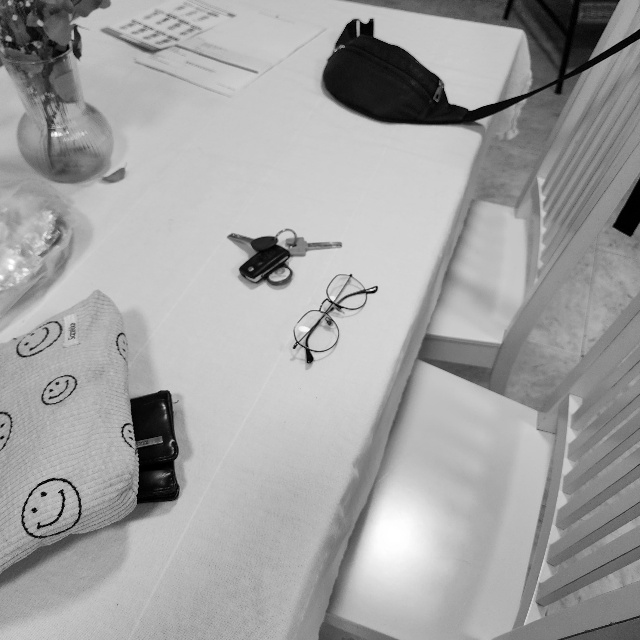glasses: (293, 274, 379, 365)
